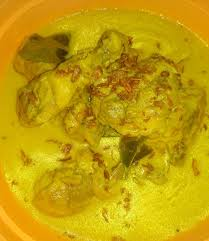Opor ayam: (11, 11, 209, 241)
